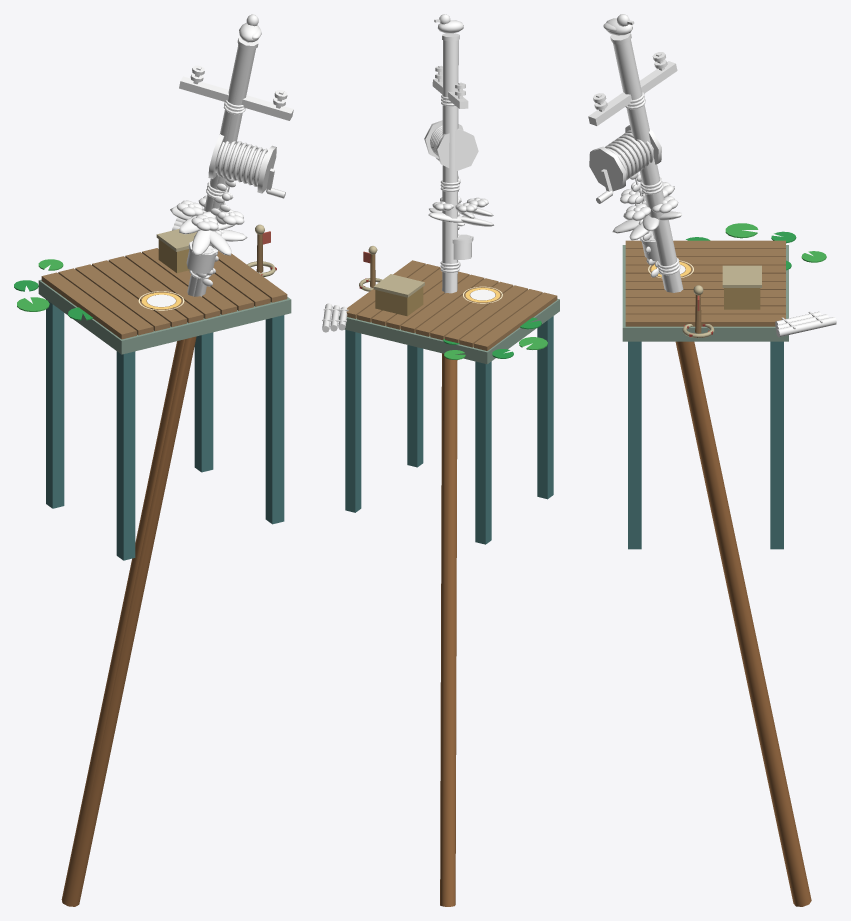
File: salvage_station.glb
The picture shows the model from 3 angles, left to right: view 1: azimuth 30°, elevation 25°; view 2: azimuth 150°, elevation 25°; view 3: azimuth 270°, elevation 25°; orthographic projection. The views are drawn at different scales.
Parts seen in each view (by area): view 1: 绞盘打捞台-海下基座-02.001, 绞盘打捞台-海上区域-01.001; view 2: 绞盘打捞台-海下基座-02.001, 绞盘打捞台-海上区域-01.001; view 3: 绞盘打捞台-海上区域-01.001, 绞盘打捞台-海下基座-02.001.
Part boxes in pixels (x1=…): 绞盘打捞台-海下基座-02.001: x1=38, y1=272, x2=291, y2=906; 绞盘打捞台-海上区域-01.001: x1=14, y1=14, x2=293, y2=341; 绞盘打捞台-海下基座-02.001: x1=339, y1=287, x2=559, y2=906; 绞盘打捞台-海上区域-01.001: x1=322, y1=14, x2=559, y2=359; 绞盘打捞台-海上区域-01.001: x1=588, y1=14, x2=836, y2=338; 绞盘打捞台-海下基座-02.001: x1=622, y1=329, x2=811, y2=906.
Size of the model in its own units: 8.94 by 34.08 by 8.21.
